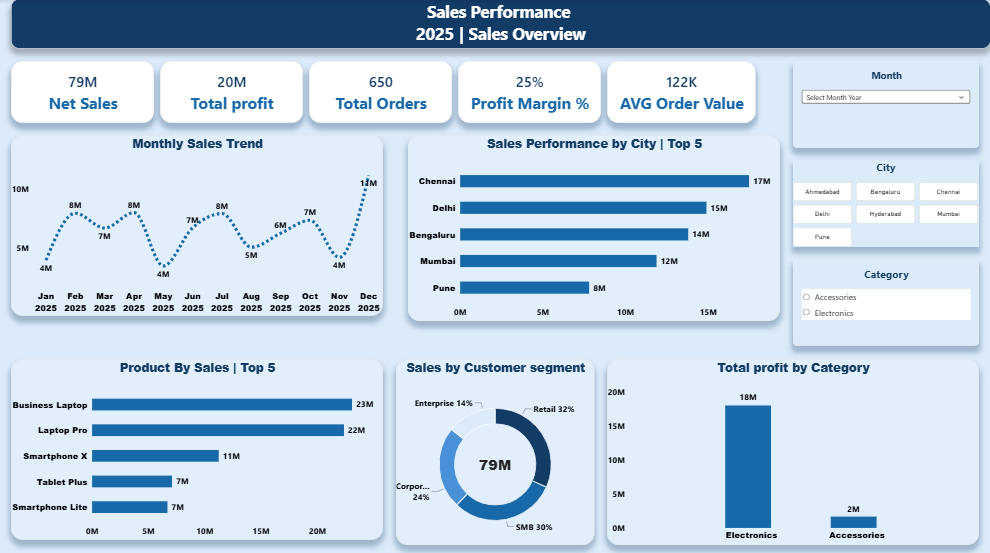

What the dashboard file says about the page in this screenshot:
{"tool":"powerbi","page":{"name":"Page 1","canvas":[1920,1080],"ordinal":0},"visuals":[{"type":"cardVisual","fields":{"Data":["Measures (2).Net Sales"]},"box":[24,120,277,120],"z":0},{"type":"cardVisual","fields":{"Data":["Measures (2).Total profit"]},"box":[312,120,277,120],"z":1000},{"type":"cardVisual","fields":{"Data":["Measures (2).Total Orders"]},"box":[600,120,277,120],"z":2000},{"type":"cardVisual","fields":{"Data":["Measures (2).Profit Margin %"]},"box":[888,120,277,120],"z":3000},{"type":"lineChart","title":"Monthly Sales Trend","fields":{"Category":["DateTable.Month Year"],"Y":["Measures (2).Net Sales"]},"box":[24,264,720,350],"z":4000},{"type":"donutChart","title":"Sales by Customer segment","fields":{"Category":["Customers.Segment"],"Y":["Measures (2).Net Sales"]},"box":[768,696,384,360],"z":5000},{"type":"barChart","title":"Product By Sales | Top 5","fields":{"Category":["Products.ProductName"],"Y":["Measures (2).Net Sales"]},"box":[24,696,720,350],"z":6000},{"type":"columnChart","fields":{"Category":["Products.Category"],"Y":["Measures (2).Total profit"]},"box":[1176,696,720,360],"z":7000},{"type":"barChart","title":"Sales Performance by City | Top 5","fields":{"Category":["Customers.City"],"Y":["Measures (2).Net Sales"]},"box":[792,264,720,360],"z":8000},{"type":"textbox","box":[24,0,1896,96],"z":9000},{"type":"cardVisual","fields":{"Data":["Measures (2).AVG Order Value"]},"box":[1176,120,288,120],"z":10000},{"type":"listSlicer","title":"Month ","fields":{"Values":["DateTable.Month Year"]},"box":[1536,120,360,168],"z":11000},{"type":"advancedSlicerVisual","fields":{"Values":["Customers.City"]},"box":[1536,312,360,168],"z":12000},{"type":"listSlicer","fields":{"Values":["Products.Category"]},"box":[1536,504,360,168],"z":13000}]}

Visuals, with their boxes in screenshot pixels (x1, y1, x2, y2), scaled from the page's 1920x1080 canvas onto the 990x553 screenshot:
cardVisual - Measures (2).Net Sales: detection(12, 61, 155, 123)
cardVisual - Measures (2).Total profit: detection(161, 61, 304, 123)
cardVisual - Measures (2).Total Orders: detection(309, 61, 452, 123)
cardVisual - Measures (2).Profit Margin %: detection(458, 61, 601, 123)
"Monthly Sales Trend" lineChart: detection(12, 135, 384, 314)
"Sales by Customer segment" donutChart: detection(396, 356, 594, 541)
"Product By Sales | Top 5" barChart: detection(12, 356, 384, 536)
columnChart - Products.Category x Measures (2).Total profit: detection(606, 356, 978, 541)
"Sales Performance by City | Top 5" barChart: detection(408, 135, 780, 320)
textbox: detection(12, 0, 989, 49)
cardVisual - Measures (2).AVG Order Value: detection(606, 61, 755, 123)
"Month " listSlicer: detection(792, 61, 978, 147)
advancedSlicerVisual - Customers.City: detection(792, 160, 978, 246)
listSlicer - Products.Category: detection(792, 258, 978, 344)
